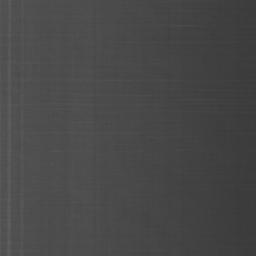Waist folding: (75, 77, 181, 83), (0, 101, 93, 107), (0, 240, 31, 251), (0, 56, 37, 65), (170, 23, 200, 29), (183, 43, 231, 45), (237, 79, 256, 83)
